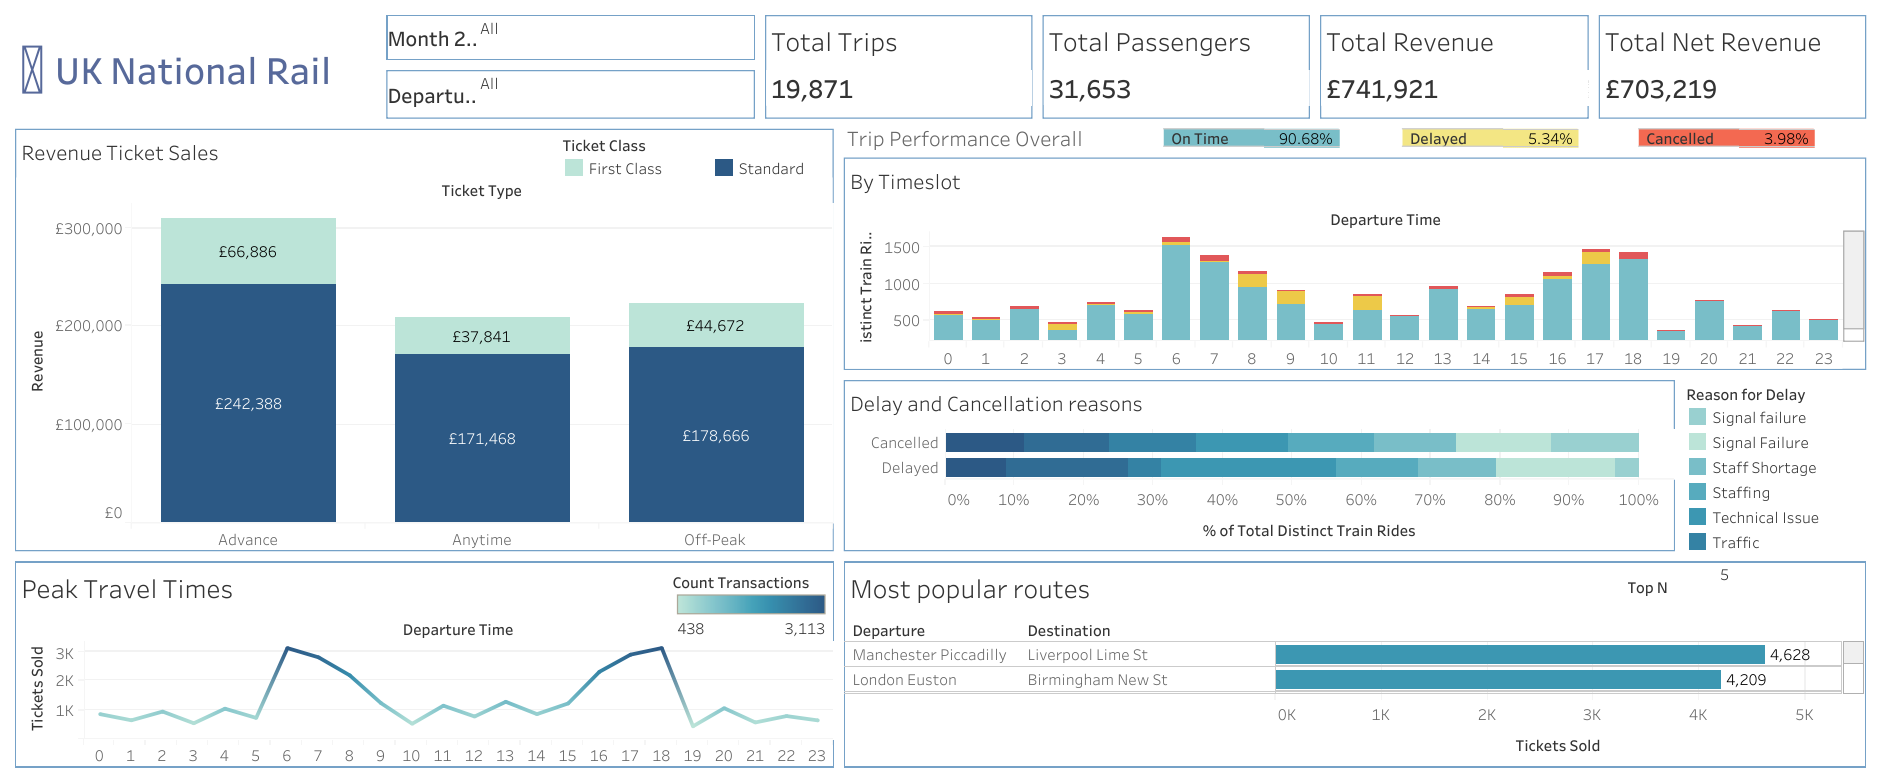

What the dashboard file says about the page in this screenshot:
{"tool":"tableau","page":{"name":"UK National Rail Analysis","canvas":[1000,1000],"units":"permille","ordinal":0},"visuals":[{"type":"text","box":[4.2,9.3,197.6,146.3]},{"type":"filter","title":"Routes","param":"[federated.1rt5v5a0g4957p1ca23la0nqj7d4].[mn:Date of Journey:ok]","box":[201.8,9.3,201.9,70.8]},{"type":"worksheet","title":"Total Trips","mark":"Automatic","box":[403.7,9.3,147.9,146.3]},{"type":"worksheet","title":"Total Passengers","mark":"Automatic","box":[551.6,9.3,148,146.3]},{"type":"worksheet","title":"Total Revenue","mark":"Automatic","box":[699.6,9.3,148,146.3]},{"type":"worksheet","title":"Total Net Revenue","mark":"Automatic","box":[847.6,9.3,148.1,146.3]},{"type":"filter","title":"Routes","param":"[federated.1rt5v5a0g4957p1ca23la0nqj7d4].[none:Departure Station:nk]","box":[201.8,80.1,201.9,75.5]},{"type":"worksheet","title":"Revenue","mark":"Automatic","rows":["Price"],"cols":["Ticket Type"],"box":[4.2,155.6,441.6,556.3]},{"type":"text","box":[445.9,155.6,170.4,37.2]},{"type":"worksheet","title":"On Time Overall","mark":"Automatic","rows":["Journey Status"],"box":[616.3,155.6,126.9,37.2]},{"type":"worksheet","title":"Delay Overall","mark":"Automatic","rows":["Journey Status"],"box":[743.2,155.6,126.3,37.2]},{"type":"worksheet","title":"Cancelled Overall","mark":"Automatic","rows":["Journey Status"],"box":[869.4,155.6,126.3,37.2]},{"type":"legend","title":"Revenue","param":"[federated.1rt5v5a0g4957p1ca23la0nqj7d4].[none:Ticket Class:nk]","box":[298.2,168.4,142.5,74.3]},{"type":"worksheet","title":"performance timeslots","mark":"Bar","rows":["Calculation_1309140138380152839"],"cols":["Departure Time"],"box":[445.9,192.8,549.9,285.7]},{"type":"worksheet","title":"Delay cancellation reasons","mark":"Automatic","rows":["Journey Status"],"cols":["Calculation_1309140138380152839"],"box":[445.9,478.5,447.7,233.5]},{"type":"legend","title":"Delay cancellation reasons","param":"[federated.1rt5v5a0g4957p1ca23la0nqj7d4].[none:Reason for Delay:nk]","box":[893.6,478.5,102.2,233.5]},{"type":"worksheet","title":"Travel Times","mark":"Automatic","rows":["Calculation_1379508882209615873"],"cols":["Departure Time"],"box":[4.2,712,441.6,278.8]},{"type":"worksheet","title":"Routes","mark":"Automatic","rows":["Calculation_1379508882209615873","Calculation_1309140138359185410","Calculation_1309140138359652357"],"cols":["Calculation_1379508882209615873"],"box":[445.9,712,549.9,278.8]},{"type":"parameter","param":"[Parameters].[Parameter 1]","box":[865.4,718.9,125.5,60.4]},{"type":"legend","title":"Travel Times","param":"[federated.1rt5v5a0g4957p1ca23la0nqj7d4].[usr:Calculation_1379508882209615873:qk","box":[357.5,721.2,84.2,102.2]}]}

Visuals, with their boxes on the dashboard's canvas, which has no fixed pixel size, in thousandths of its width and height (x1, y1, x2, y2). These are canvas units, not pixel positions in the 1880x781 screenshot, which may show the page scaled, cropped or inside an application window:
text: BBox(4, 9, 202, 156)
"Routes" filter: BBox(202, 9, 404, 80)
"Total Trips" worksheet: BBox(404, 9, 552, 156)
"Total Passengers" worksheet: BBox(552, 9, 700, 156)
"Total Revenue" worksheet: BBox(700, 9, 848, 156)
"Total Net Revenue" worksheet: BBox(848, 9, 996, 156)
"Routes" filter: BBox(202, 80, 404, 156)
"Revenue" worksheet: BBox(4, 156, 446, 712)
text: BBox(446, 156, 616, 193)
"On Time Overall" worksheet: BBox(616, 156, 743, 193)
"Delay Overall" worksheet: BBox(743, 156, 870, 193)
"Cancelled Overall" worksheet: BBox(869, 156, 996, 193)
"Revenue" legend: BBox(298, 168, 441, 243)
"performance timeslots" worksheet (Bar marks): BBox(446, 193, 996, 478)
"Delay cancellation reasons" worksheet: BBox(446, 478, 894, 712)
"Delay cancellation reasons" legend: BBox(894, 478, 996, 712)
"Travel Times" worksheet: BBox(4, 712, 446, 991)
"Routes" worksheet: BBox(446, 712, 996, 991)
parameter: BBox(865, 719, 991, 779)
"Travel Times" legend: BBox(358, 721, 442, 823)
